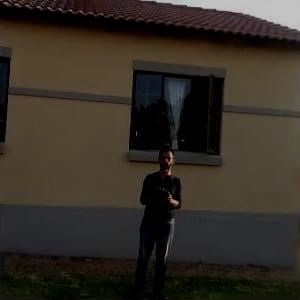follow: (126, 142, 185, 298)
